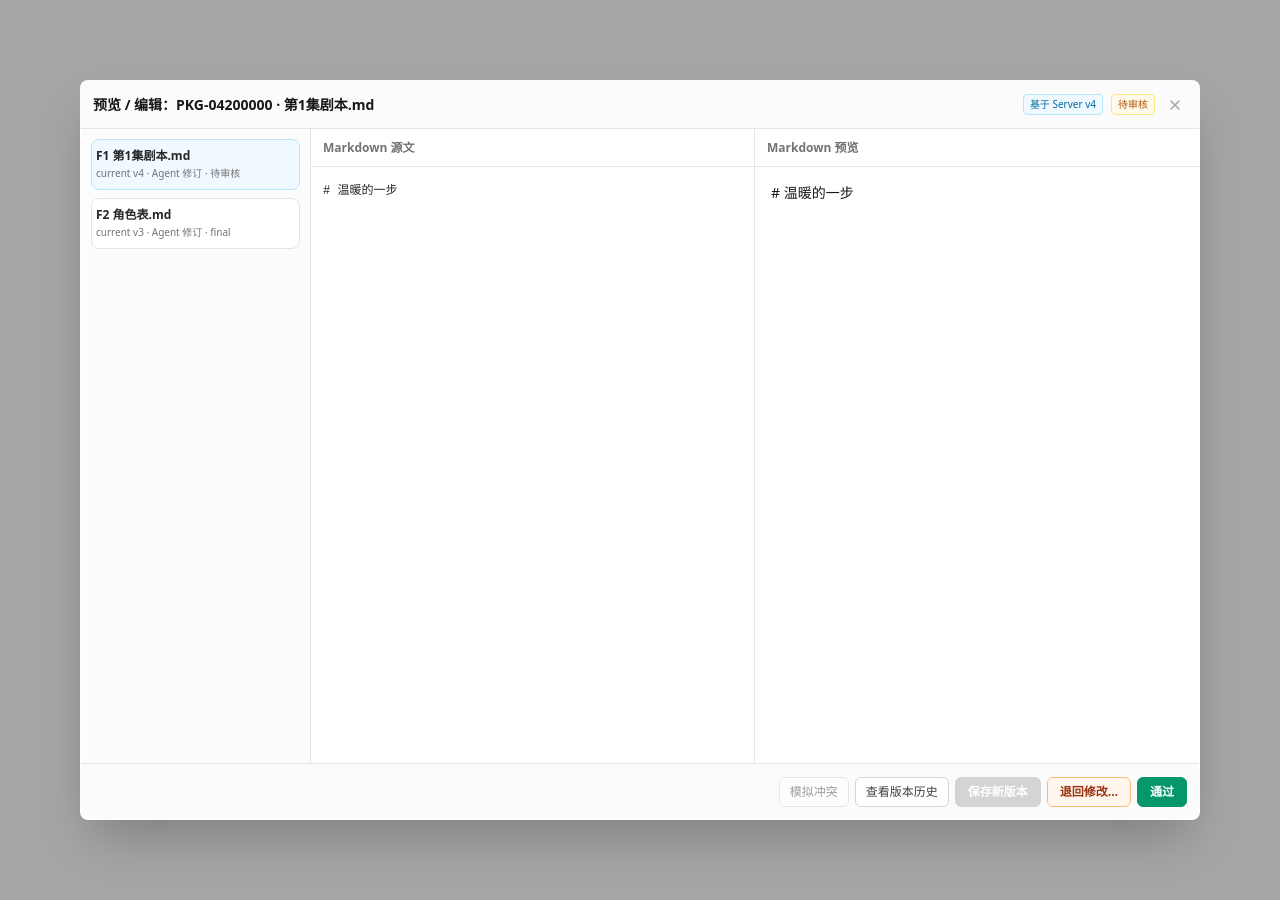
it: OutputPackagePreviewModal 原型收敛 › 版本历史读取真实集合版本，并提供只读预览和下载
Expected: the text box named "Markdown 源文" is shown, [311, 167, 754, 763]
Click the button "查看版本历史". click: (902, 792)
box: [855, 776, 949, 806]
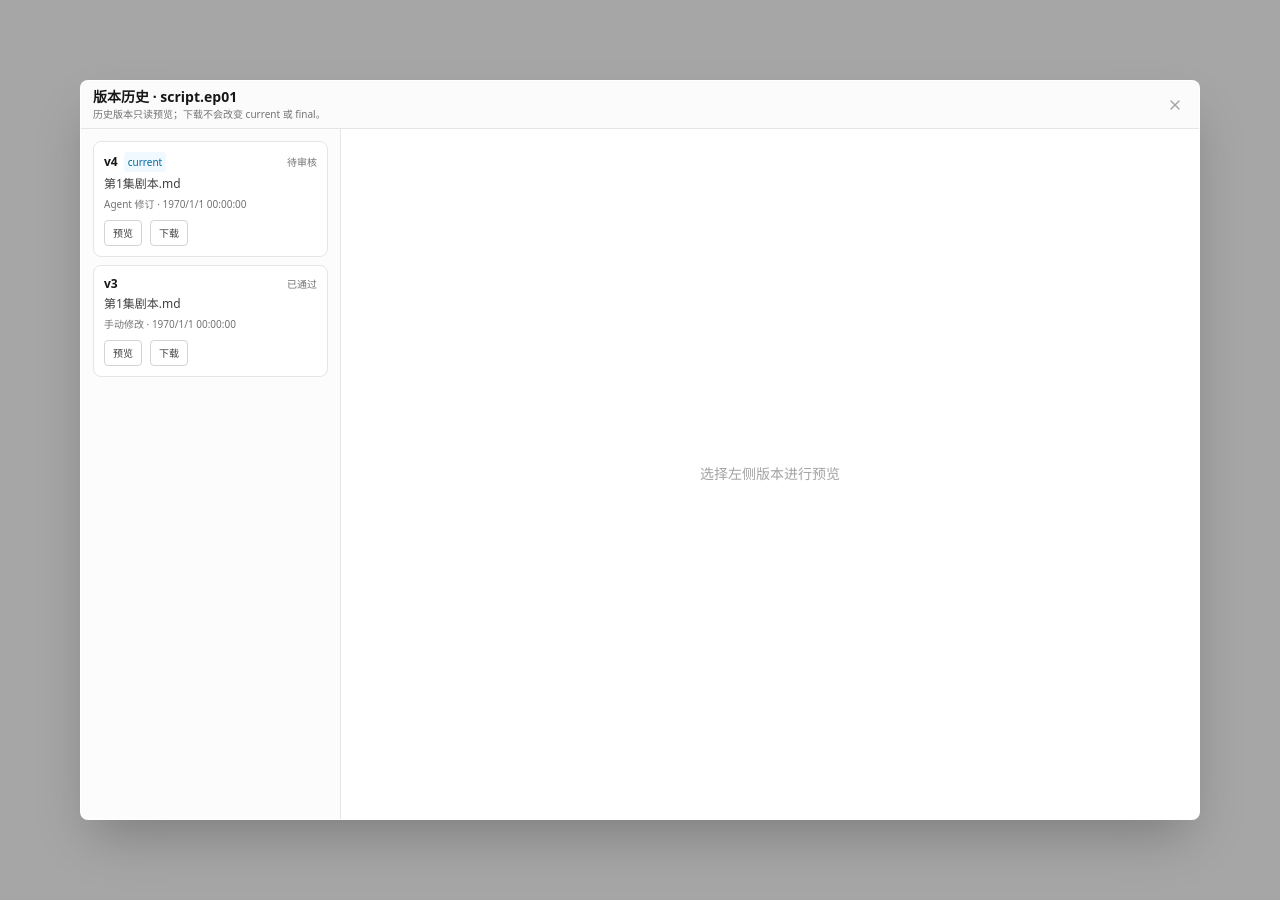
Expected: the dialog named "script.ep01 版本历史" is shown
Expected: the text "v4" is shown, [104, 154, 118, 170]
Expected: the text "v3" is shown, [104, 276, 118, 292]
Click the button with aria-label "预览 v3". click: (123, 353)
box: [104, 340, 142, 366]
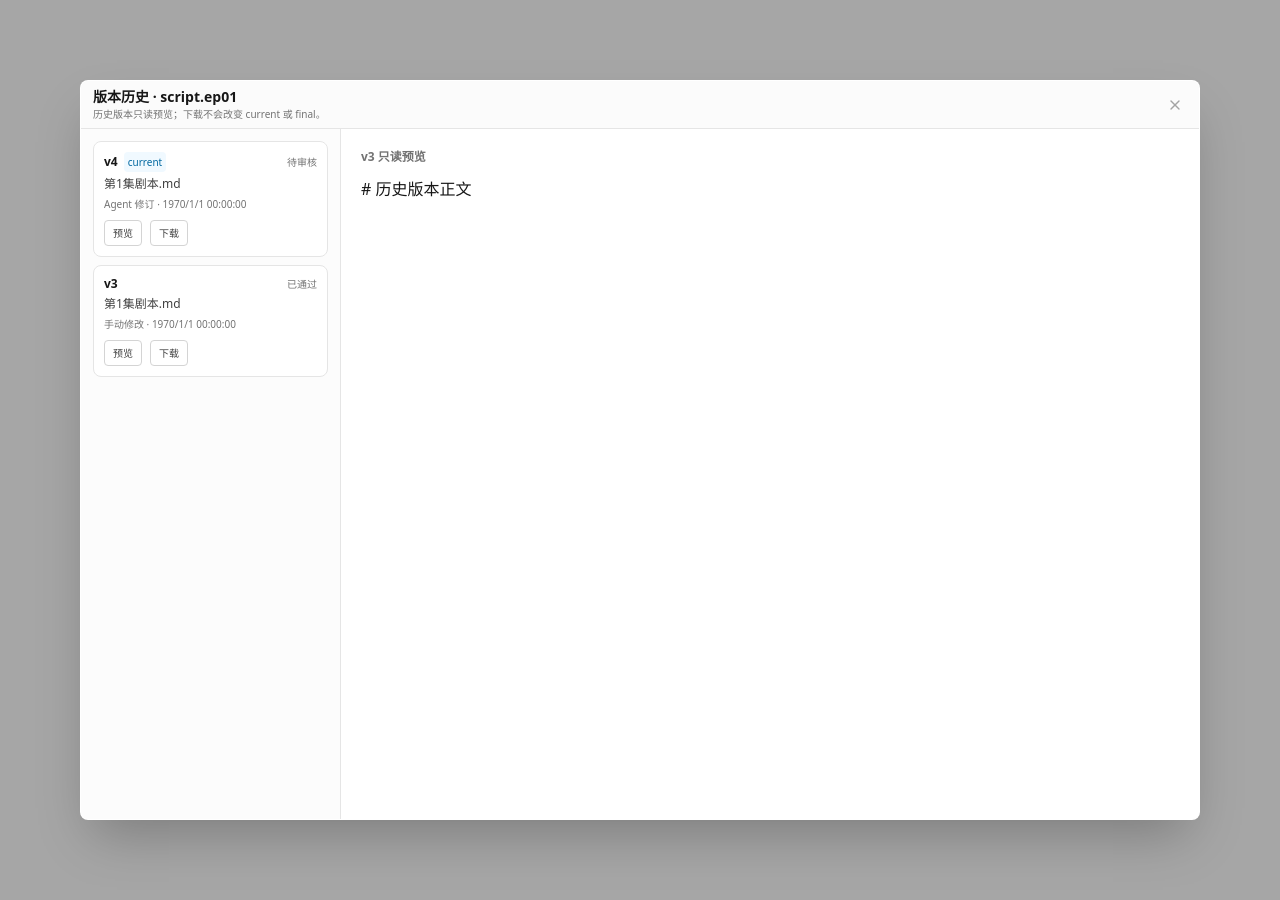
Expected: the text "# 历史版本正文" is shown, [361, 178, 472, 200]
